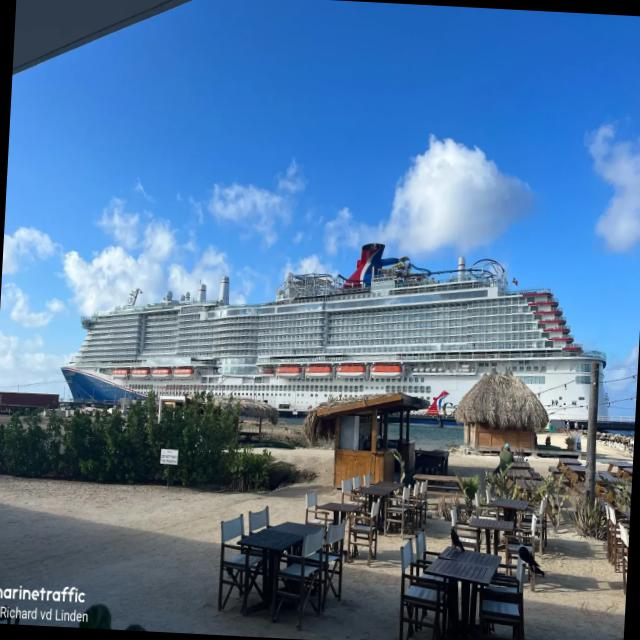Cruise: (63, 244, 606, 420)
